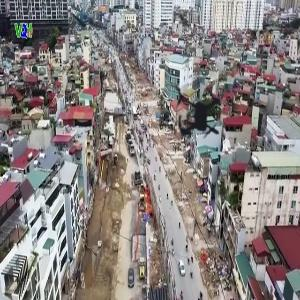drone: (142, 54, 264, 176)
